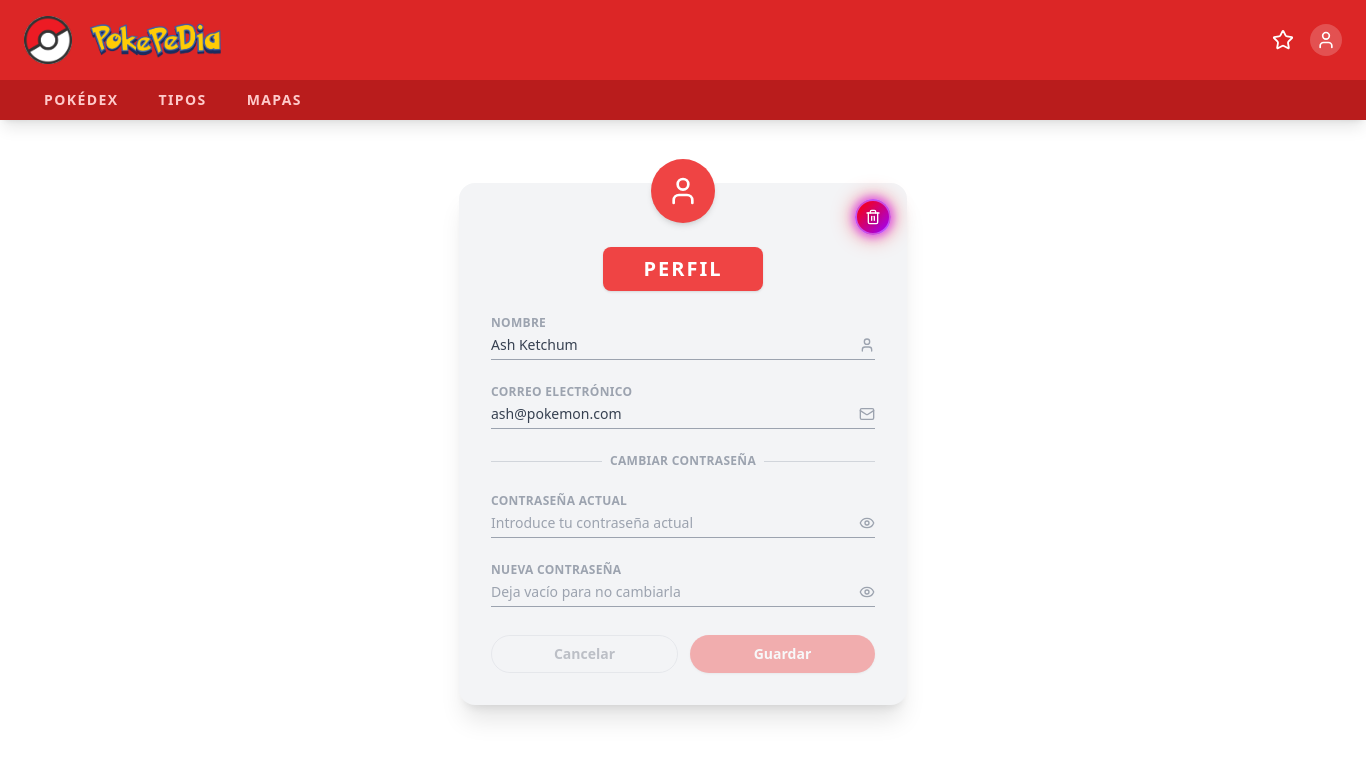
Test: Perfil › cierra el modal de eliminación al hacer clic en Cancelar
Click the button titled "Eliminar cuenta" at (873, 217), box [855, 199, 891, 235]
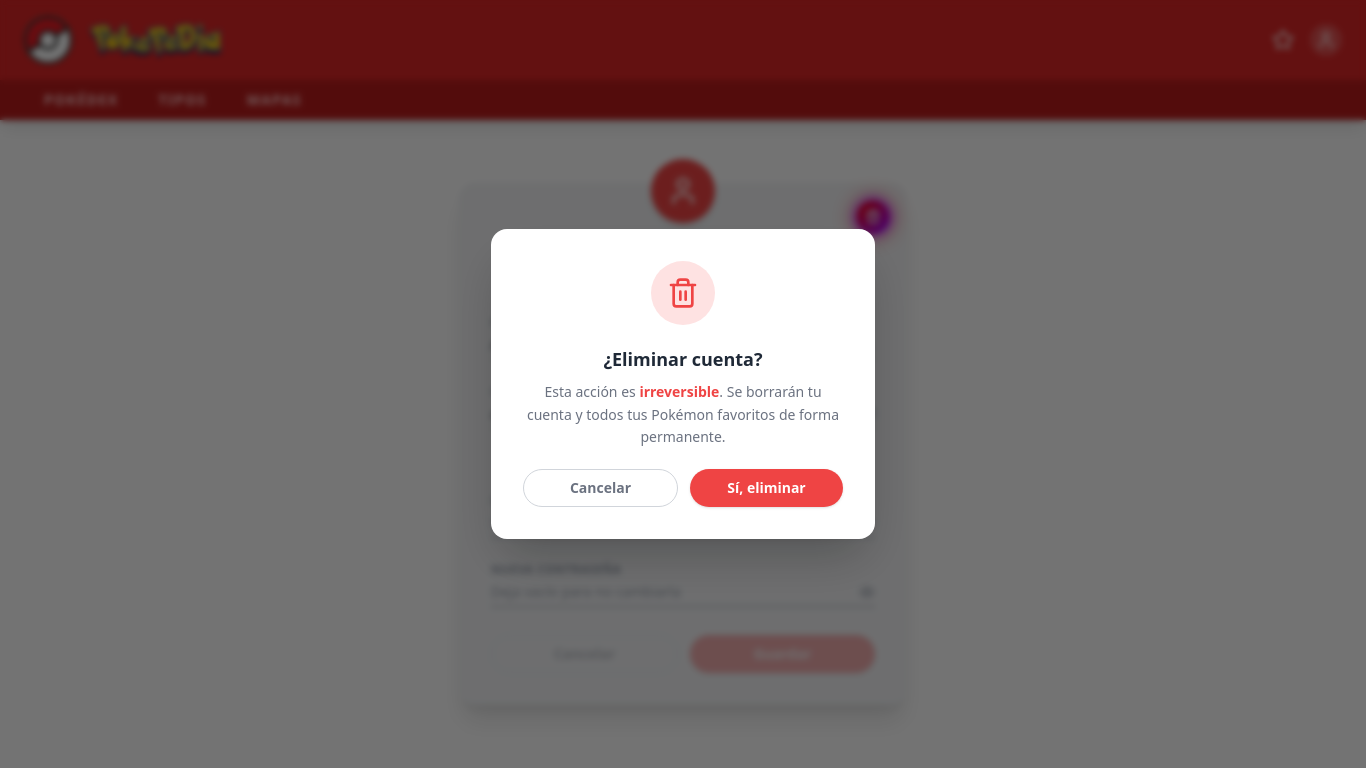
expect the heading "¿Eliminar cuenta?" is shown: met, box [603, 347, 763, 371]
Note: Buscar el botón Cancelar dentro del modal específicamente
Click the button "Cancelar" at (600, 488), box [523, 469, 678, 507]
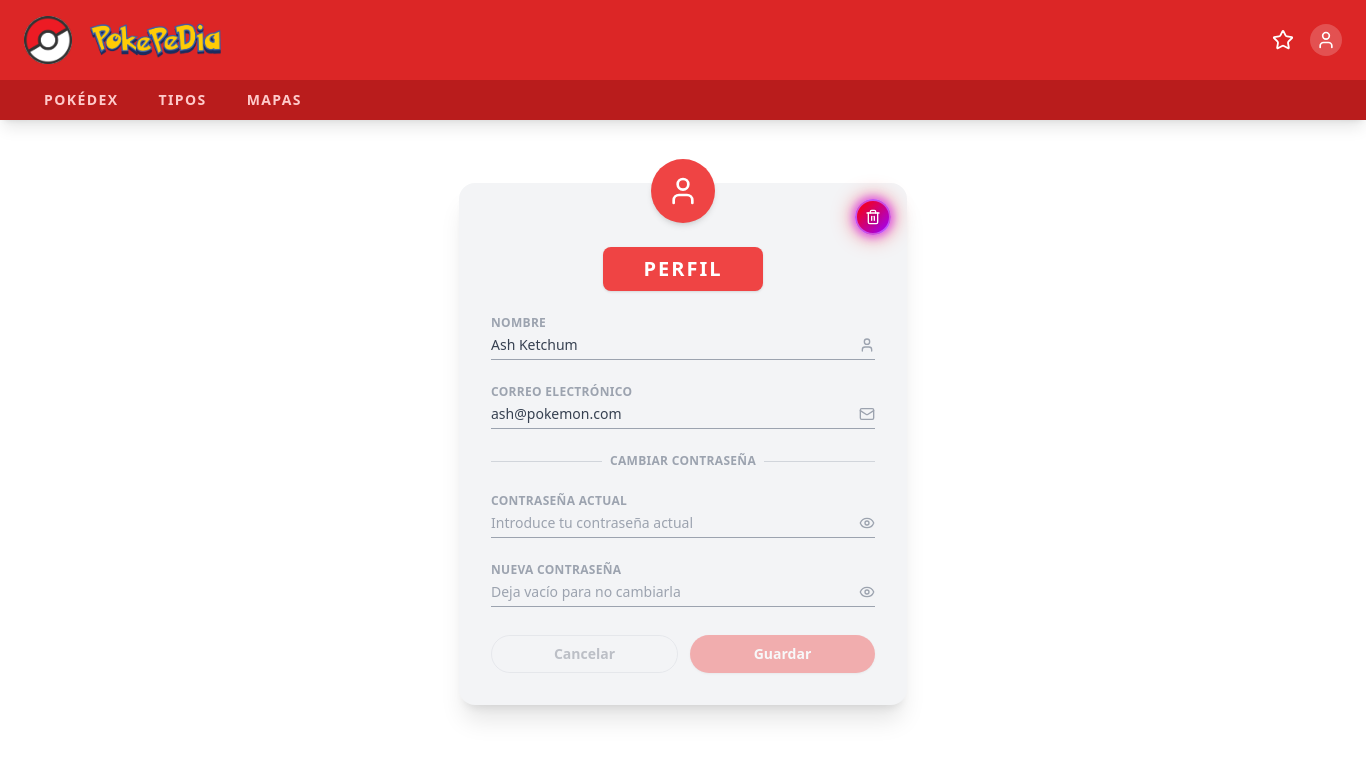
expect the heading "¿Eliminar cuenta?" is gone: met
